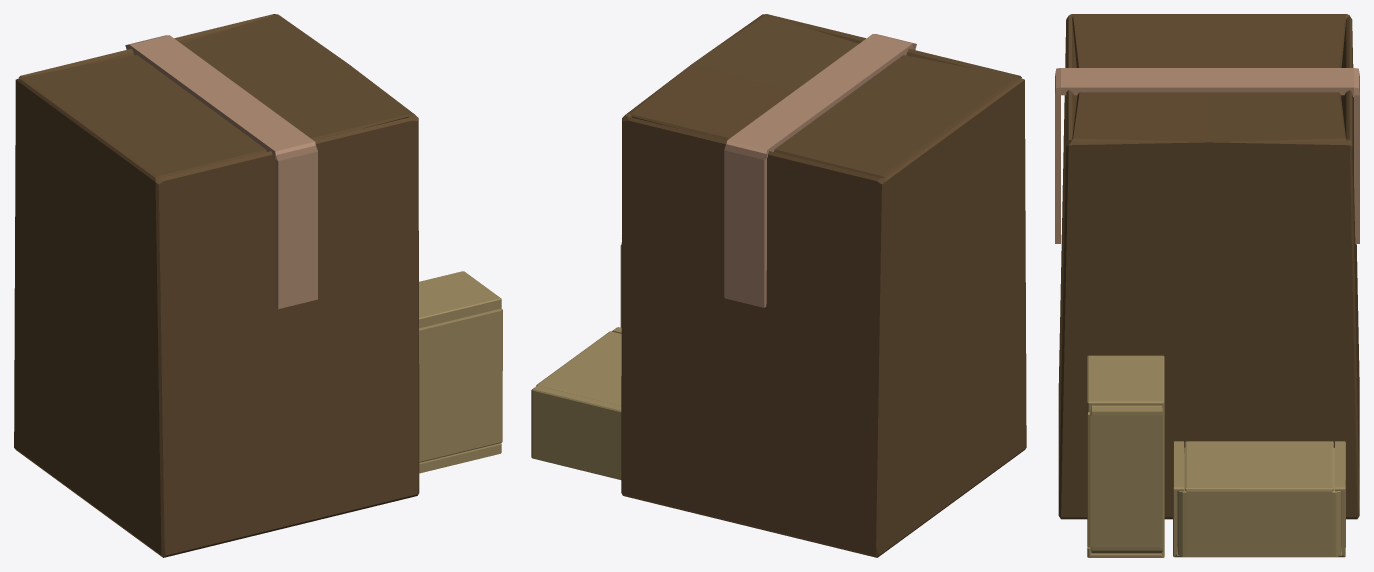
File: Boxes3.fbx
The picture shows the model from 3 angles, left to right: view 1: azimuth 30°, elevation 25°; view 2: azimuth 150°, elevation 25°; view 3: azimuth 270°, elevation 25°; orthographic projection.
Visible parts, largest first — view 1: Cube.026; view 2: Cube.026; view 3: Cube.026.
Boxes of the visible parts, box(x1,y1,x2,y2) form: Cube.026: box(14, 14, 502, 557); Cube.026: box(531, 14, 1026, 557); Cube.026: box(1055, 14, 1359, 557).
Size of the model in its own units: 153 by 155 by 112.
